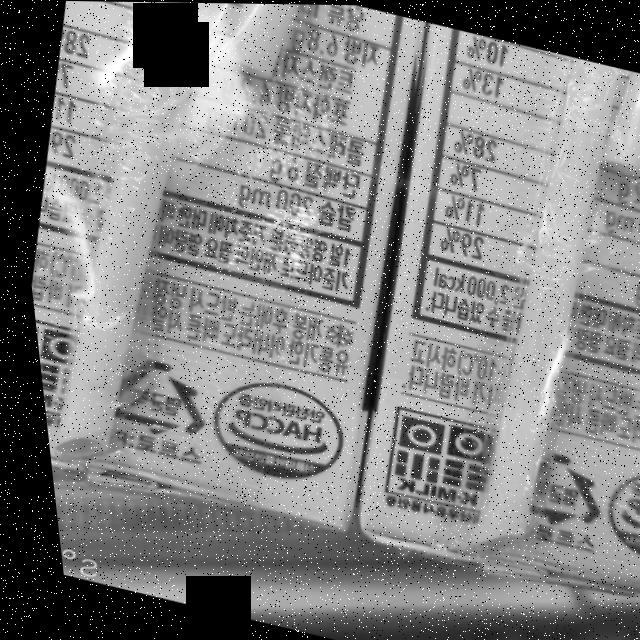SterilizedPack: (97, 350, 205, 441)
